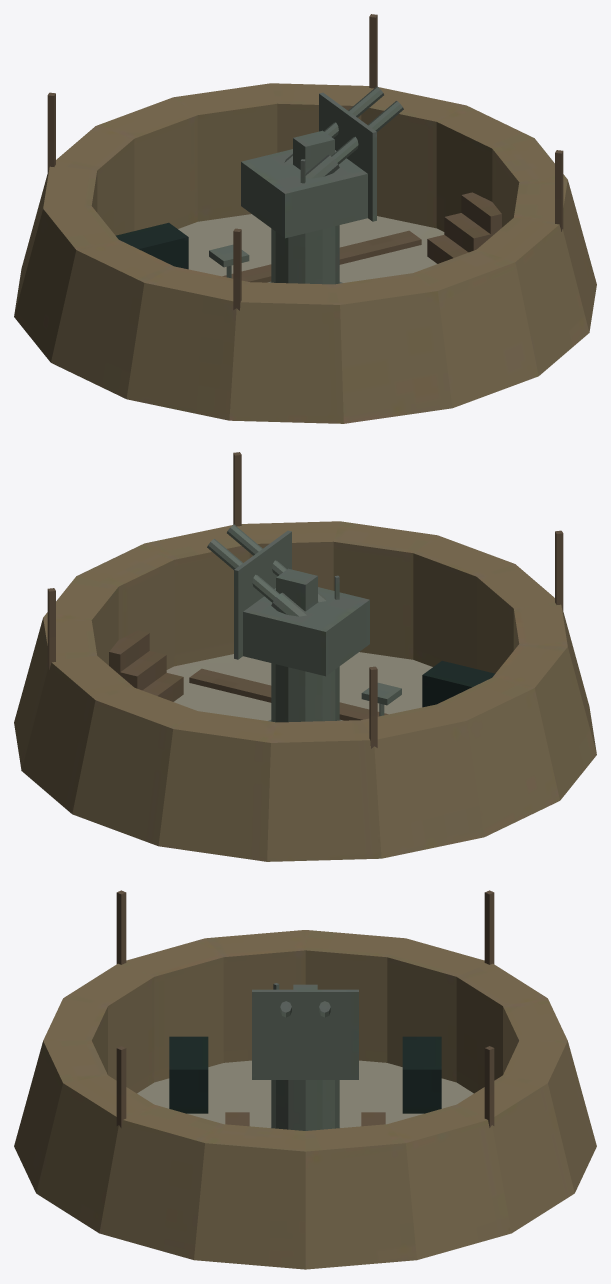
The model's file is aaa.glb.
3 views of the same model, one above another, from view 1: azimuth 30°, elevation 25°; view 2: azimuth 150°, elevation 25°; view 3: azimuth 270°, elevation 25° (orthographic).
Visible parts, largest first — view 1: aaa_concrete, Turret1; view 2: aaa_concrete, Turret1; view 3: aaa_concrete, Turret1.
Boxes of the visible parts, x1,y1,x2,y2 form: aaa_concrete: (14, 14, 596, 423); Turret1: (209, 86, 403, 284); aaa_concrete: (14, 452, 596, 861); Turret1: (207, 524, 401, 722); aaa_concrete: (14, 890, 596, 1269); Turret1: (252, 983, 358, 1130).
Bounding box in the file's own units: 6 × 2.3 × 6.
Materials: 1 (1 with a texture image).
